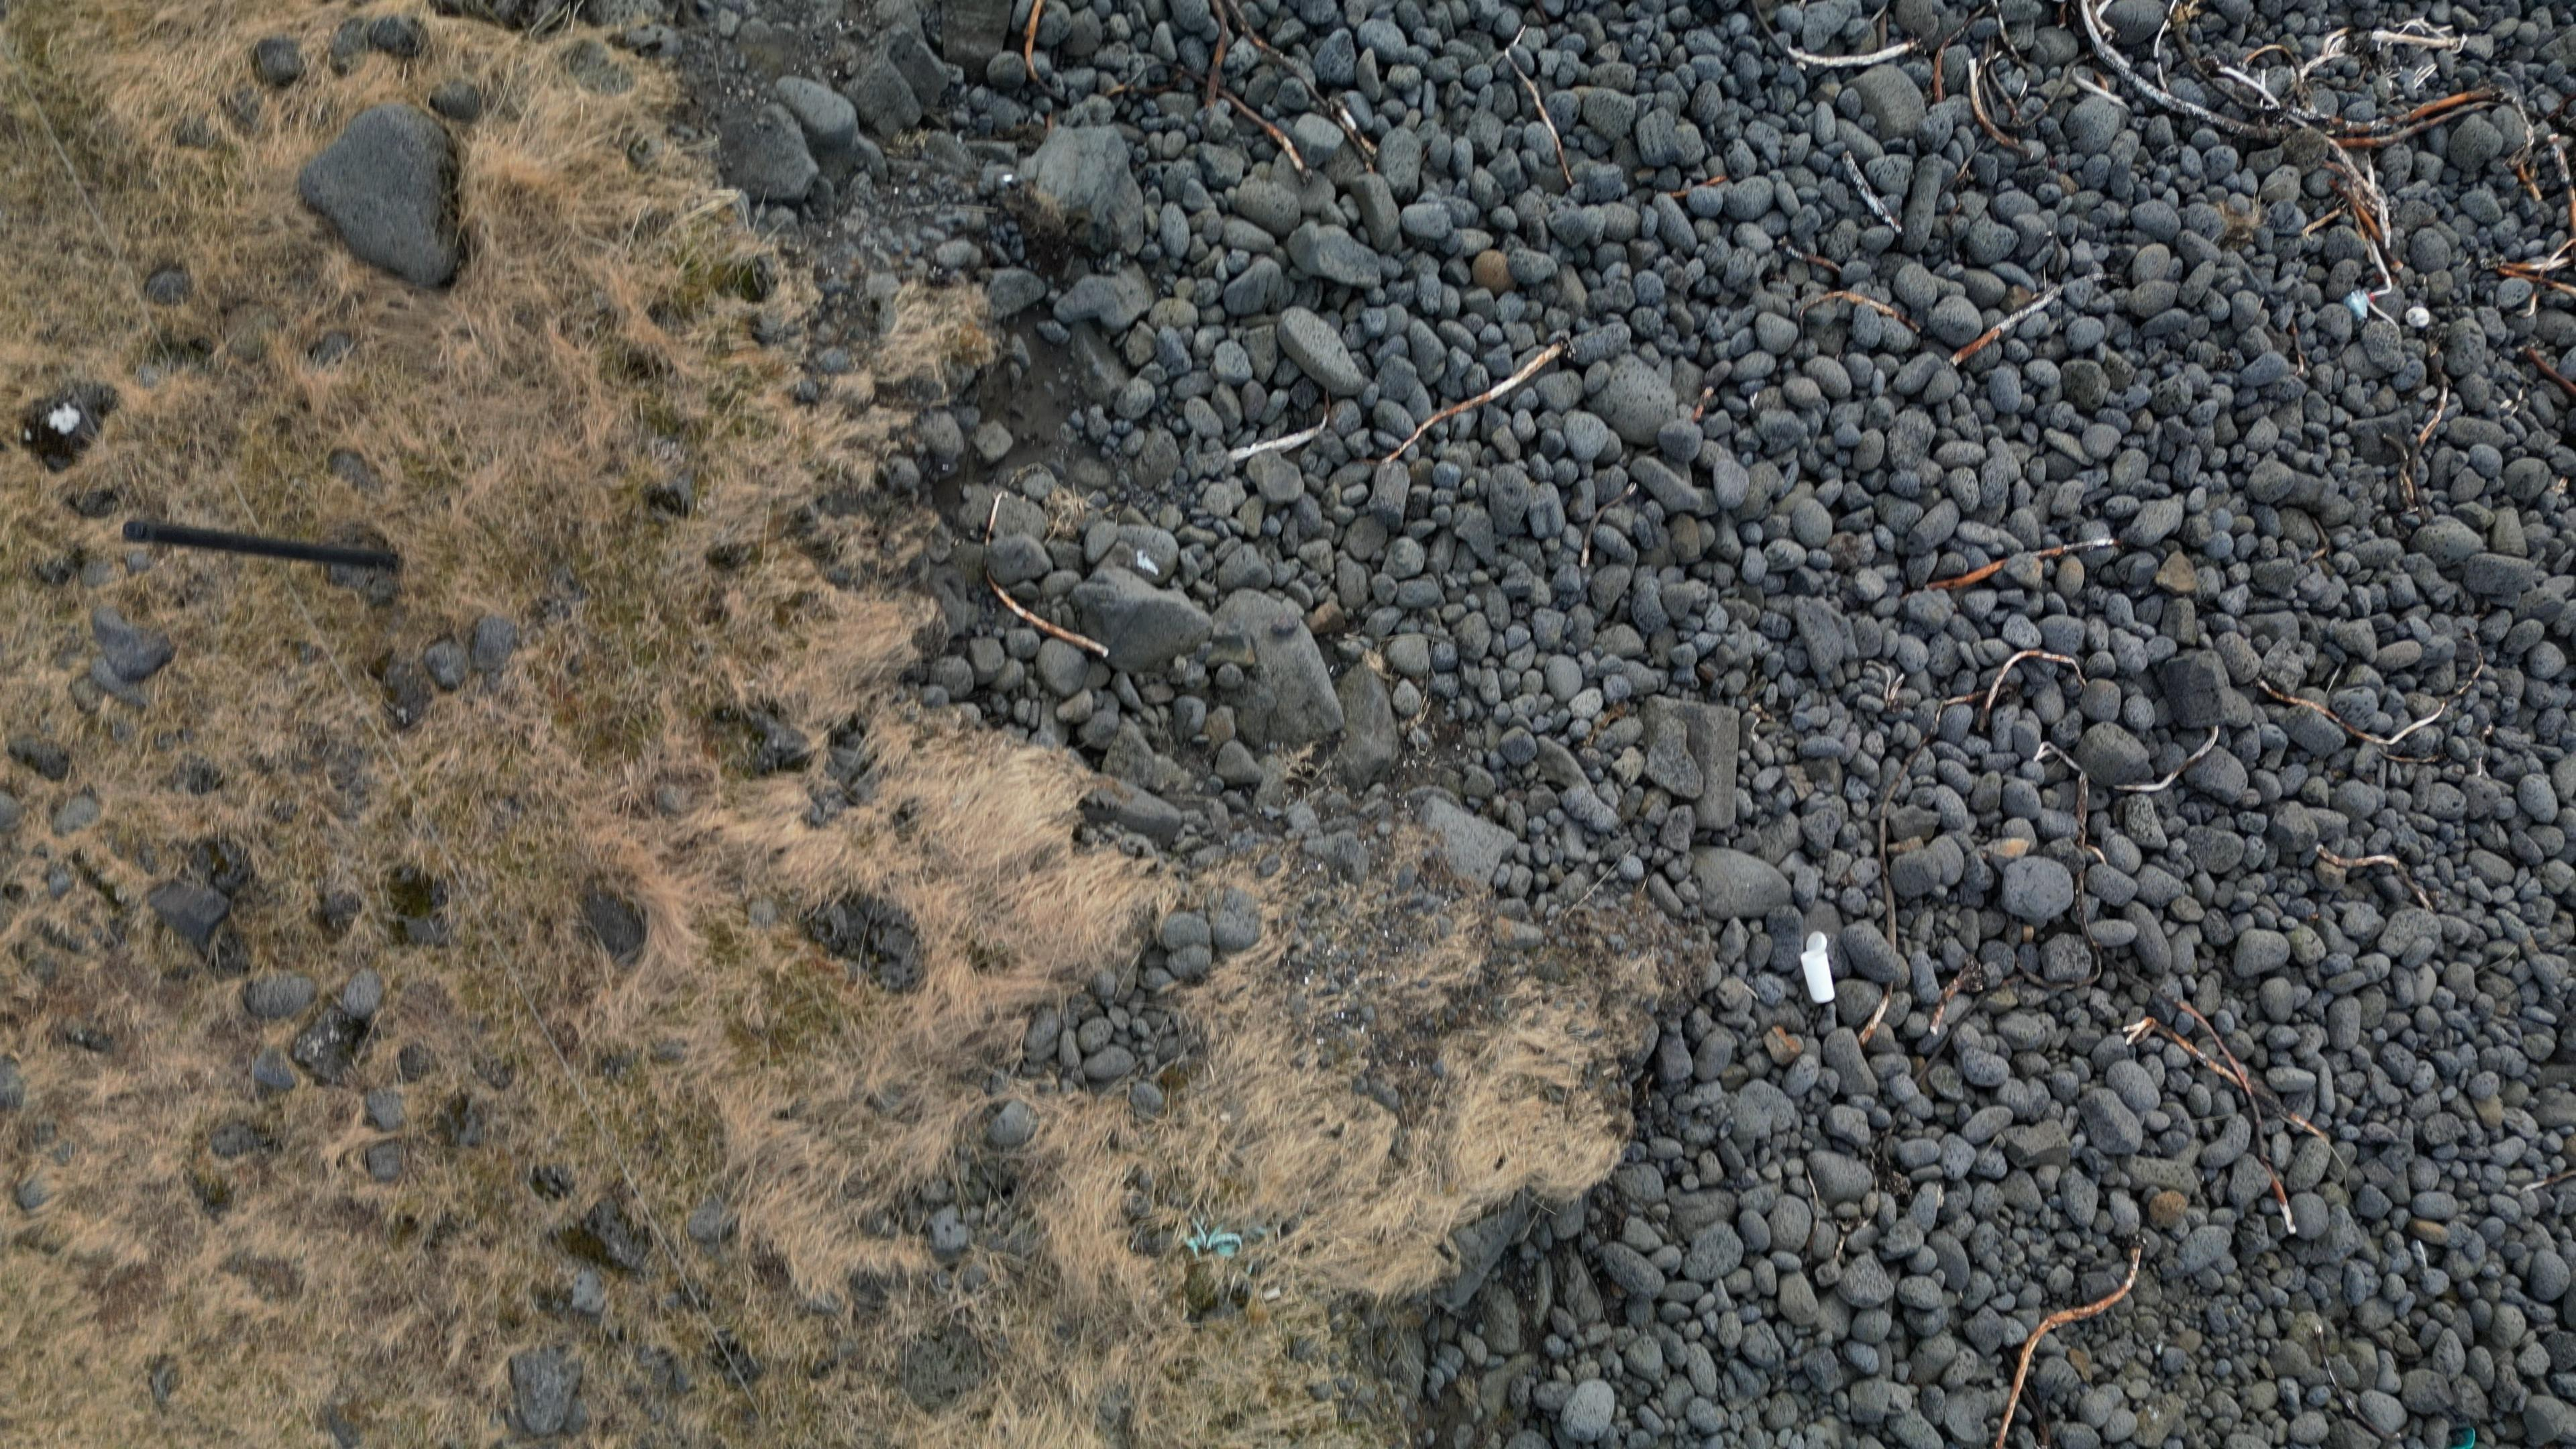trash: (1801, 931, 1837, 1006)
